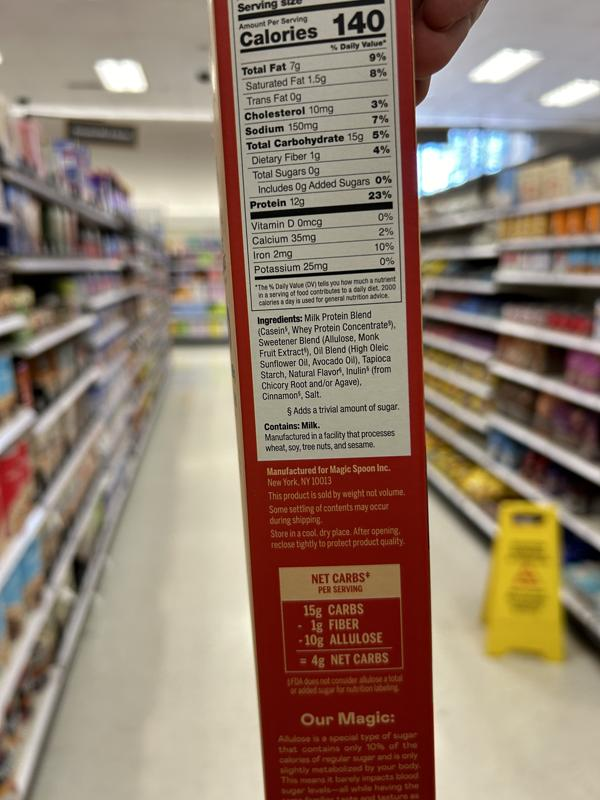ingredients: (256, 309, 397, 401)
